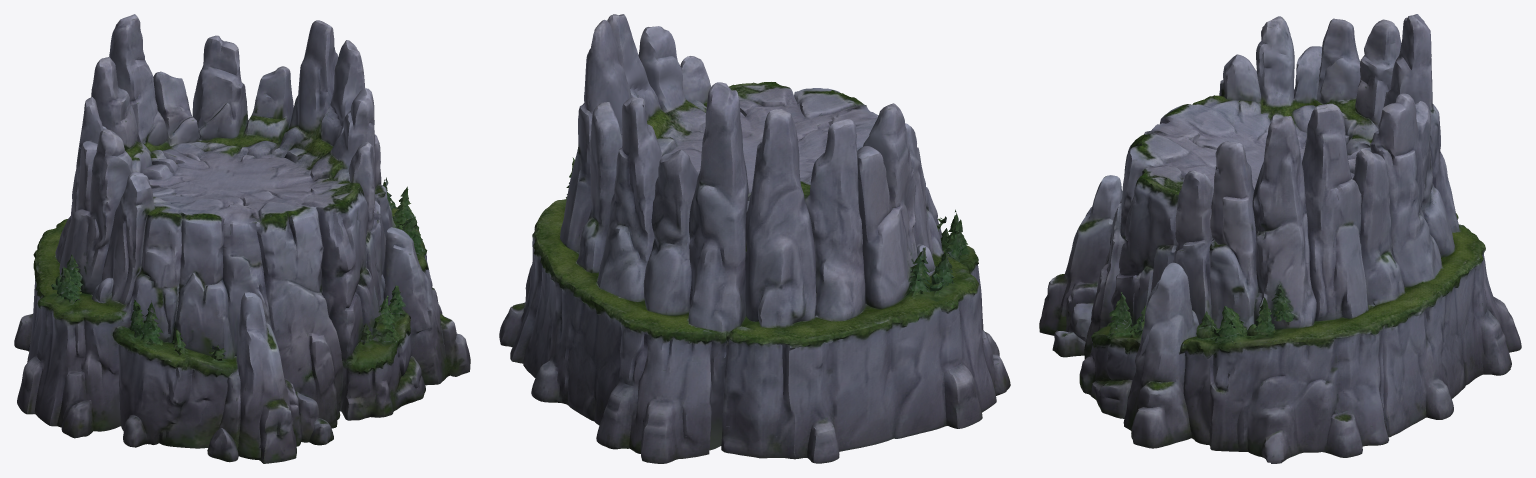
Rendered from stormwood_hollow_crown_silhouette.glb.
3 renders of one model, left to right at view 1: azimuth 30°, elevation 25°; view 2: azimuth 150°, elevation 25°; view 3: azimuth 270°, elevation 25°, orthographic. The views are drawn at different scales.
Parts seen in each view (by area): view 1: Mesh_0; view 2: Mesh_0; view 3: Mesh_0.
Part boxes in pixels (<box>): Mesh_0: <box>14,14,470,463</box>; Mesh_0: <box>499,14,1010,463</box>; Mesh_0: <box>1039,14,1521,463</box>.
Size of the model in its own units: 1.9 by 1.36 by 1.83.
Materials: 1 (1 with a texture image).
